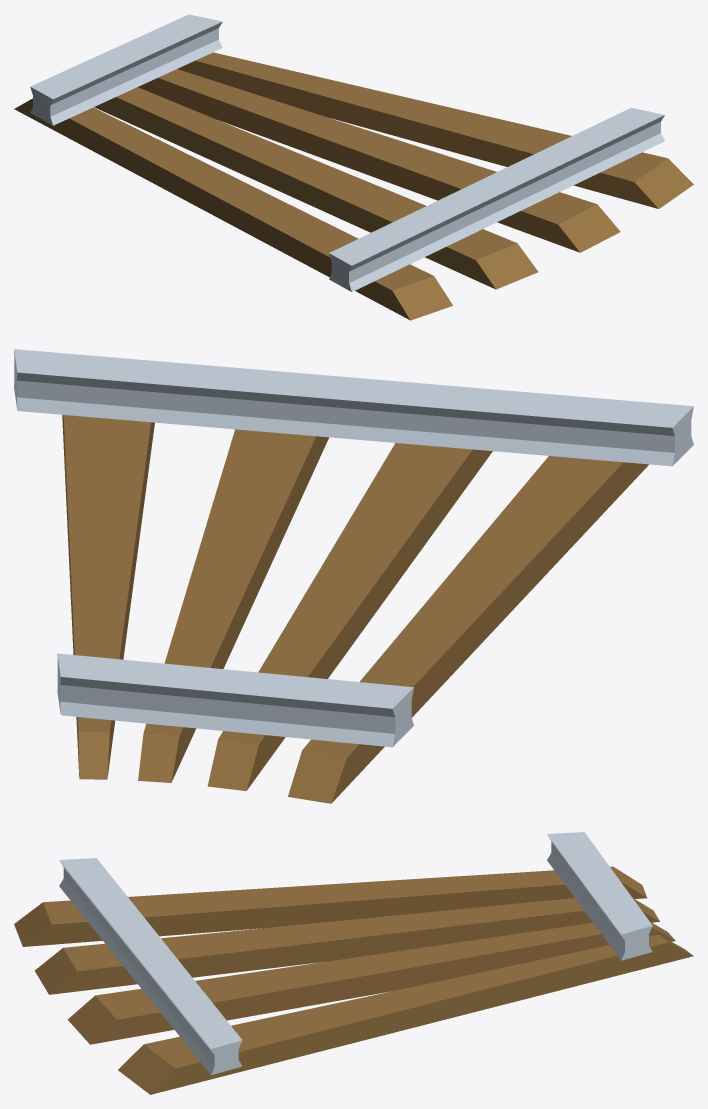
File: TrainTrackCurve.fbx
The picture shows the model from 3 angles, top to bottom: view 1: azimuth 30°, elevation 25°; view 2: azimuth 150°, elevation 25°; view 3: azimuth 270°, elevation 25°; orthographic projection. The views are drawn at different scales.
Visible parts, largest first — view 1: TrainTrackCurve; view 2: TrainTrackCurve; view 3: TrainTrackCurve.
Part boxes in pixels (x1,y1,x2,y2): TrainTrackCurve: (14, 14, 693, 320); TrainTrackCurve: (14, 349, 693, 803); TrainTrackCurve: (14, 832, 693, 1094).
Size of the model in its own units: 278 by 27.84 by 367.
